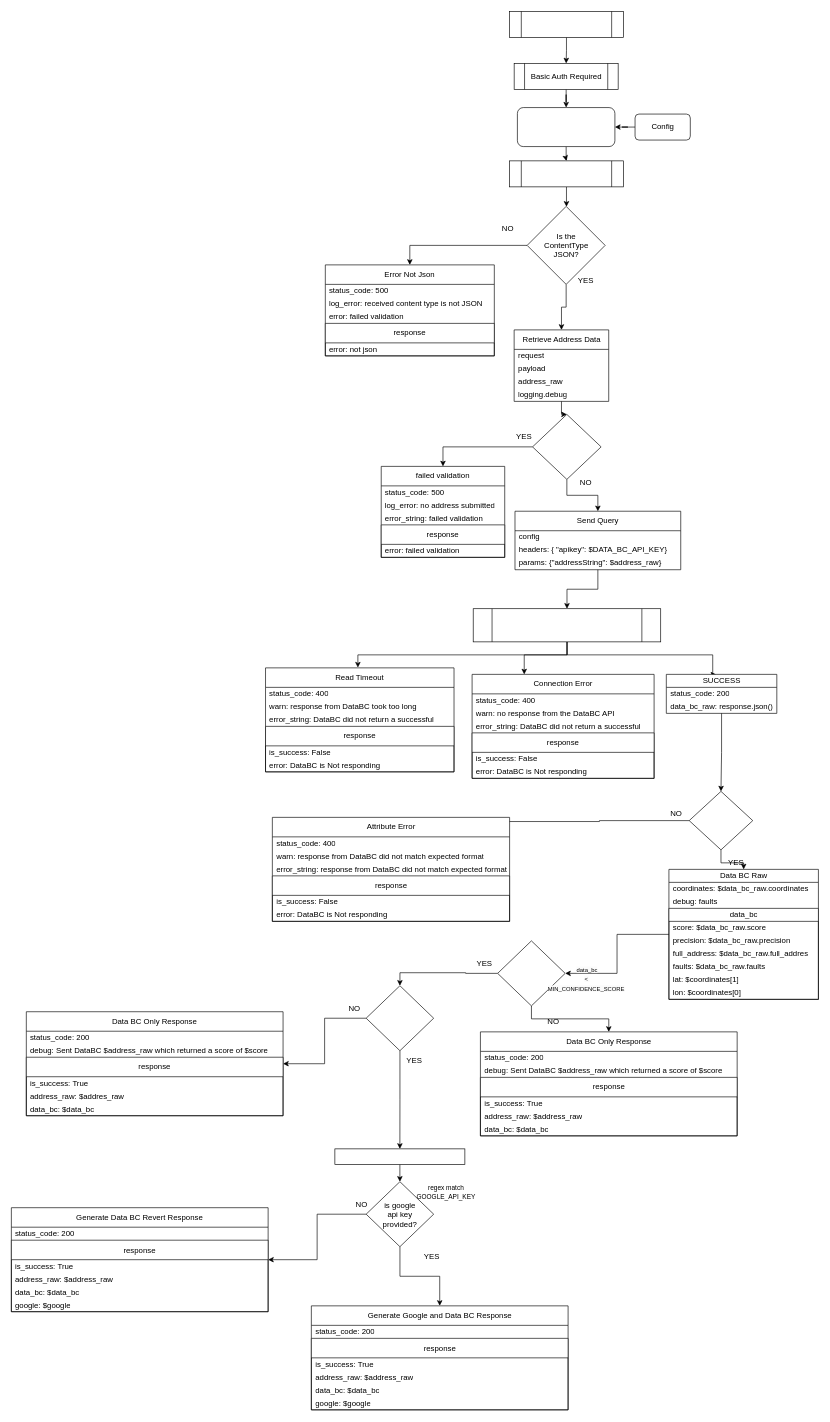
The diagram is 830 pixels wide and 1422 high, and some of its shapes have lost their labels. The centre of each missing label's shape, as x and y in pixels:
Business Geocode Address: pixel 566 173
GET $DATA_BC_API_URL /address.geojson: pixel 567 625
is confidence too low ?: pixel 531 973
is google fail over enabled?: pixel 399 1018
is Response valid ?: pixel 721 820
Is the Address Raw empty?: pixel 566 446
Middle Logic: pixel 566 127
POST /address: pixel 566 24
SET $GOOGLE_FAIL_OVER_ENABLED = True: pixel 399 1156
